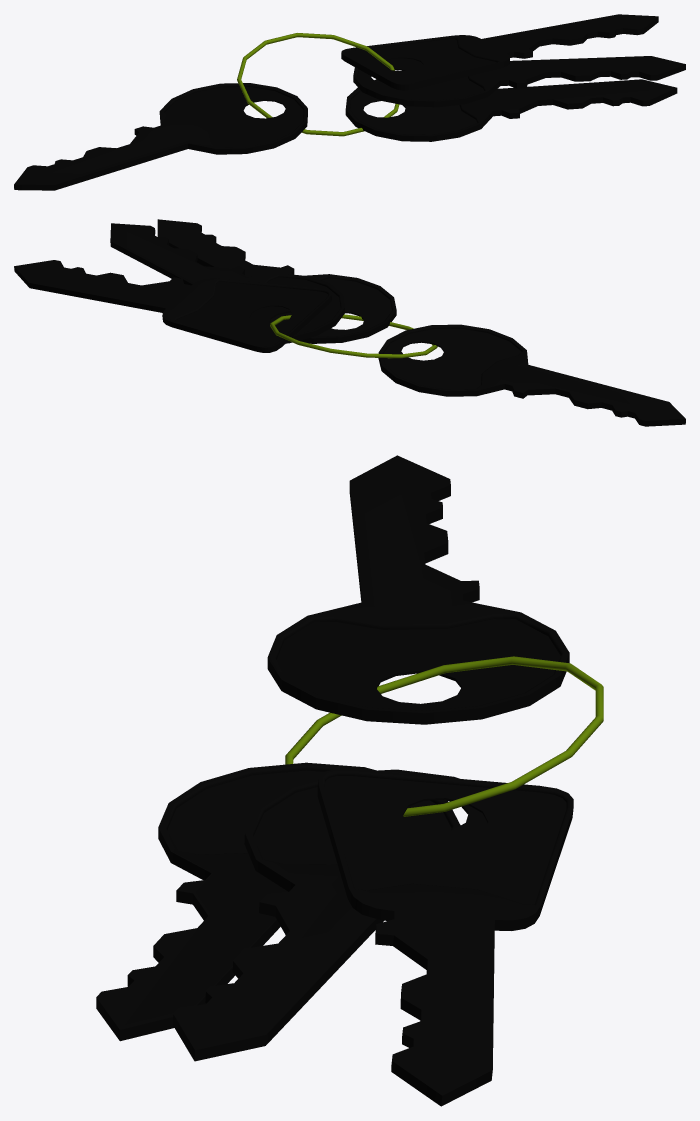
File: SM_Keys.fbx
The picture shows the model from 3 angles, top to bottom: view 1: azimuth 30°, elevation 25°; view 2: azimuth 150°, elevation 25°; view 3: azimuth 270°, elevation 25°; orthographic projection. The views are drawn at different scales.
Parts seen in each view (by area): view 1: SM_Keys; view 2: SM_Keys; view 3: SM_Keys.
Part boxes in pixels (left/top/right/bottom): SM_Keys: left=14, top=14, right=685, bottom=190; SM_Keys: left=14, top=219, right=685, bottom=426; SM_Keys: left=96, top=455, right=603, bottom=1106.
Bounding box in the file's own units: 22.51 × 1.28 × 7.54.
